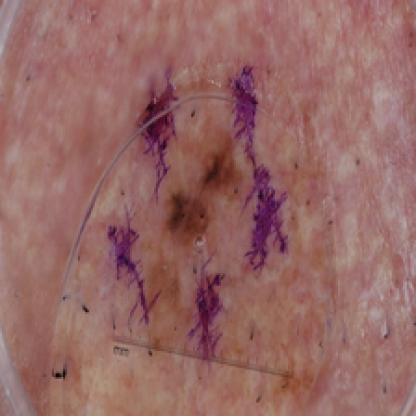malignant: (160, 182, 214, 249)
